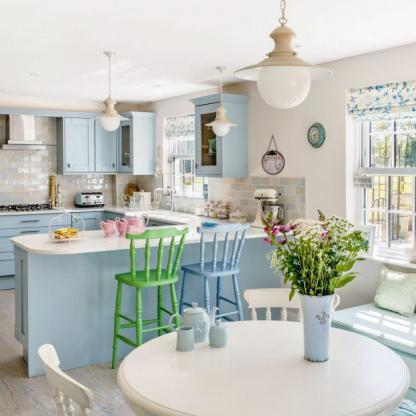chair: (104, 228, 182, 364), (191, 222, 250, 338), (27, 324, 98, 416), (237, 280, 342, 325)
clock: (302, 122, 331, 152)
light: (228, 5, 338, 117), (89, 47, 133, 138), (199, 60, 241, 151)
table: (10, 216, 275, 325), (118, 315, 402, 416)
